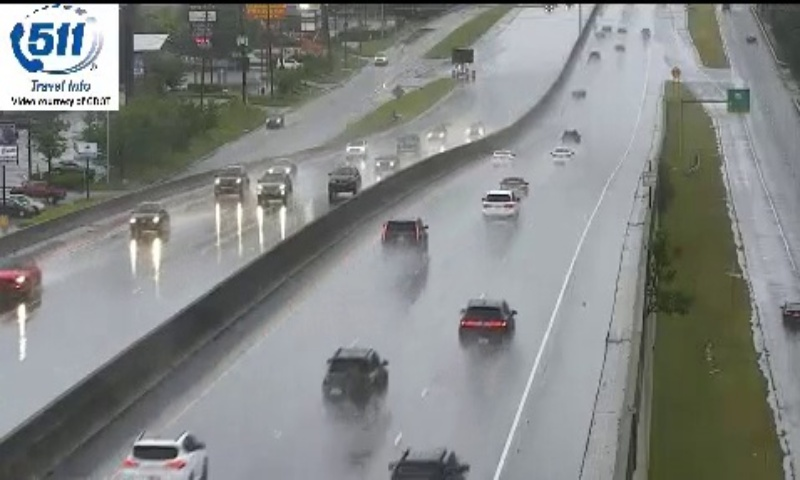car: (125, 430, 207, 480), (324, 348, 388, 405), (458, 300, 515, 346), (381, 219, 426, 253), (482, 190, 517, 220), (497, 177, 528, 198)
